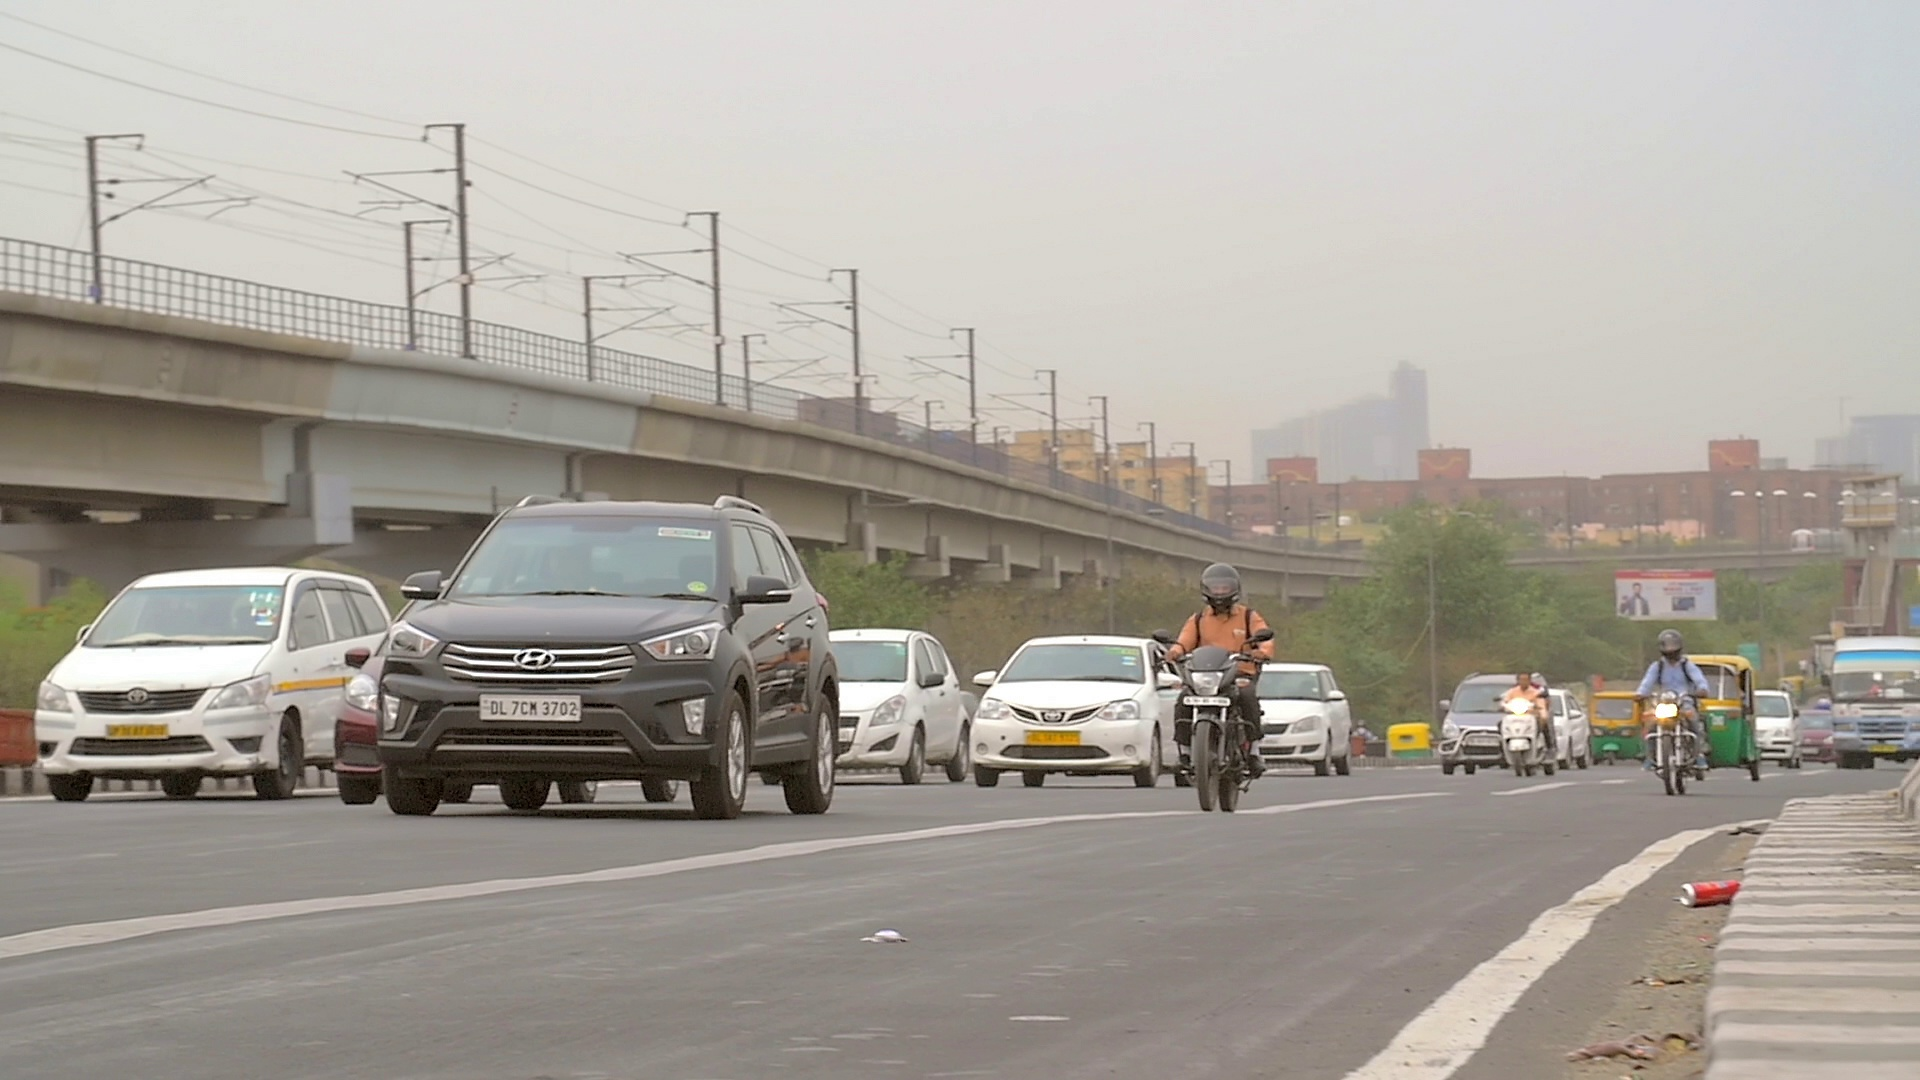bike: (1163, 560, 1269, 820), (1625, 626, 1720, 800), (1503, 673, 1553, 785)
car: (369, 491, 844, 816), (17, 551, 342, 804), (967, 629, 1168, 800)
